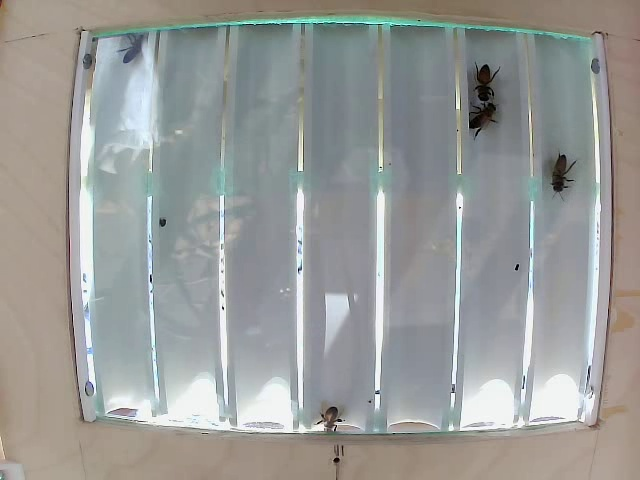bee: (543, 156, 588, 197), (467, 105, 504, 148), (466, 68, 503, 108), (315, 399, 347, 429)
